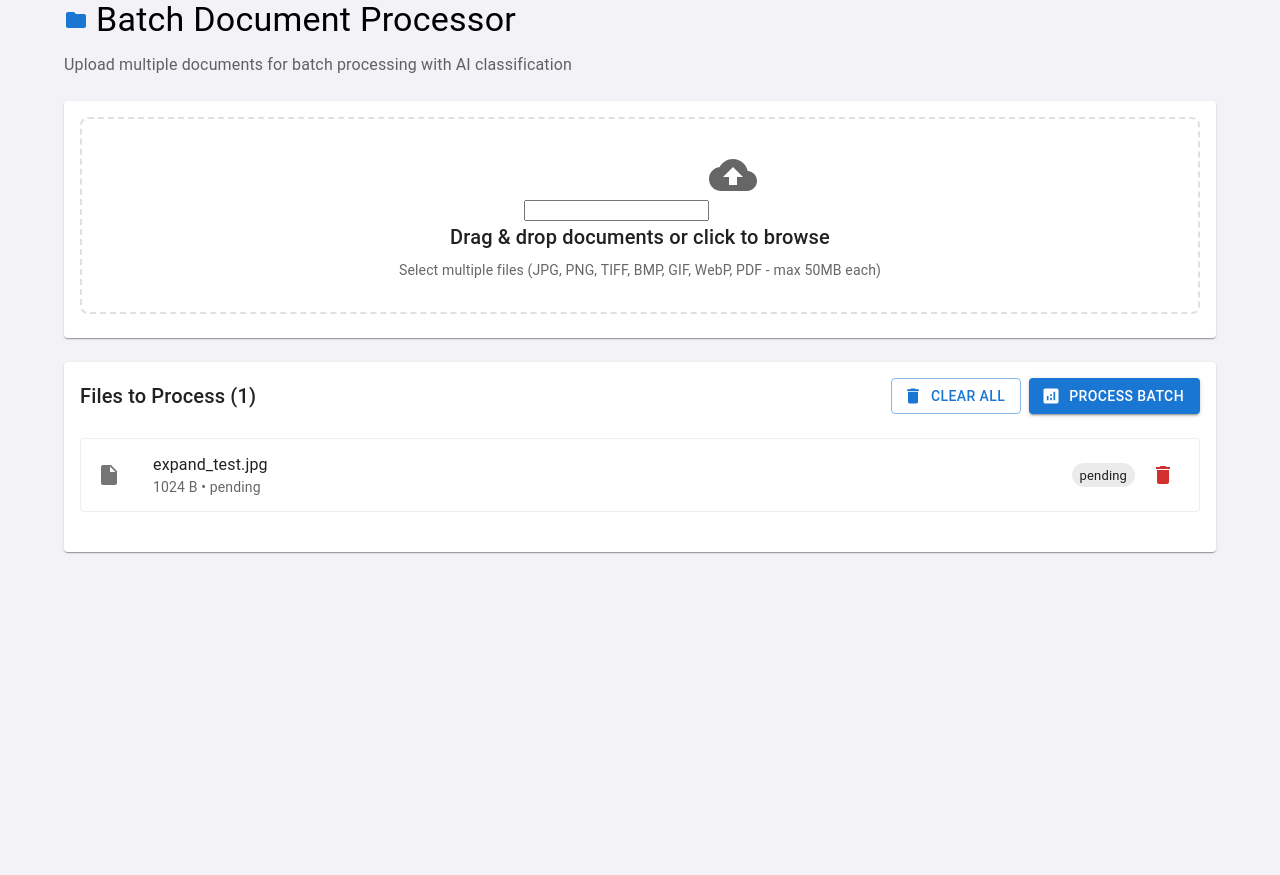
BatchProcessor › result row expansion › shows "Extracted Data" section after clicking expand
Click the button "Process Batch": (1115, 396) [1029,378,1200,414]
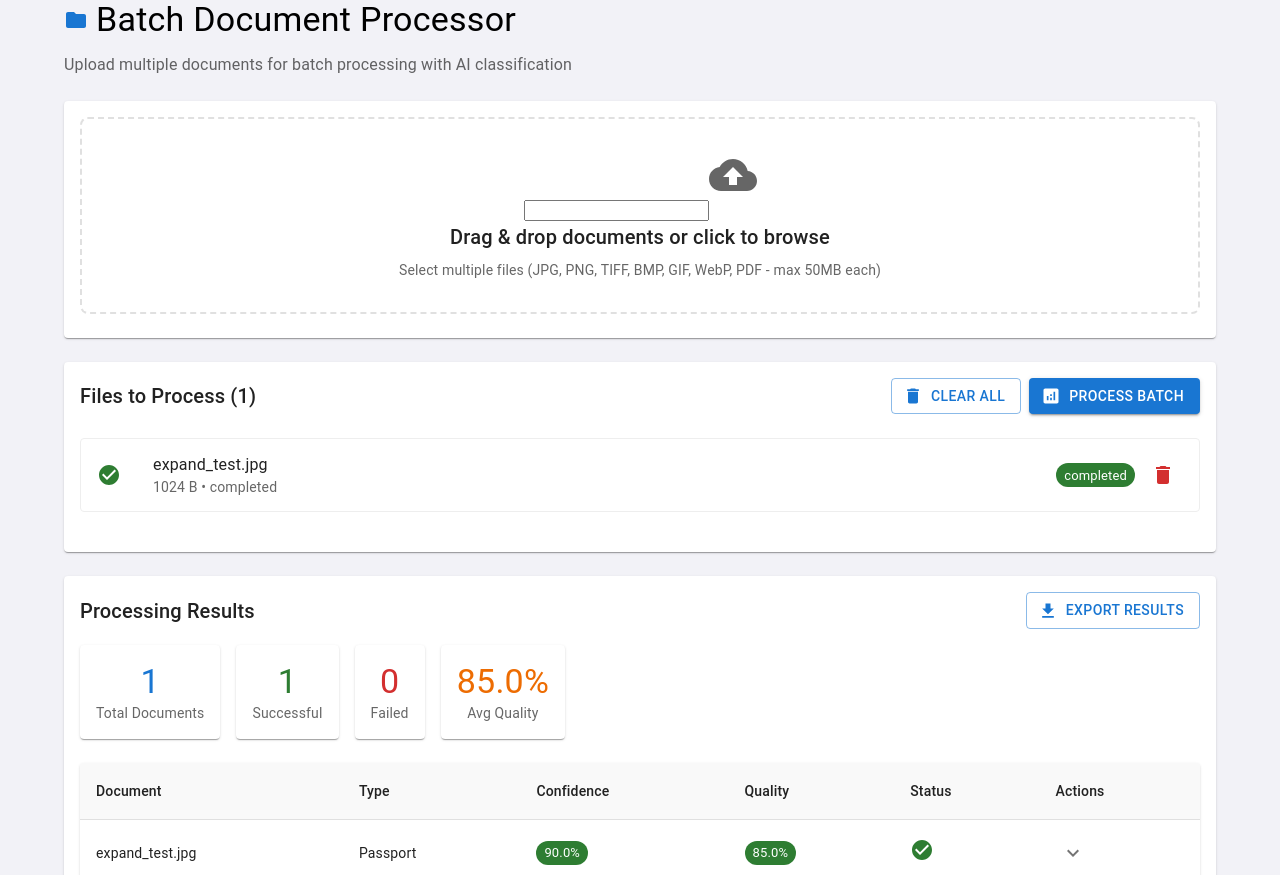
Check: the heading "Processing Results" is shown, box [80,595,255,627]
Click the button named "expand details": (1072, 853) [1056,836,1090,870]
(page scrolled)
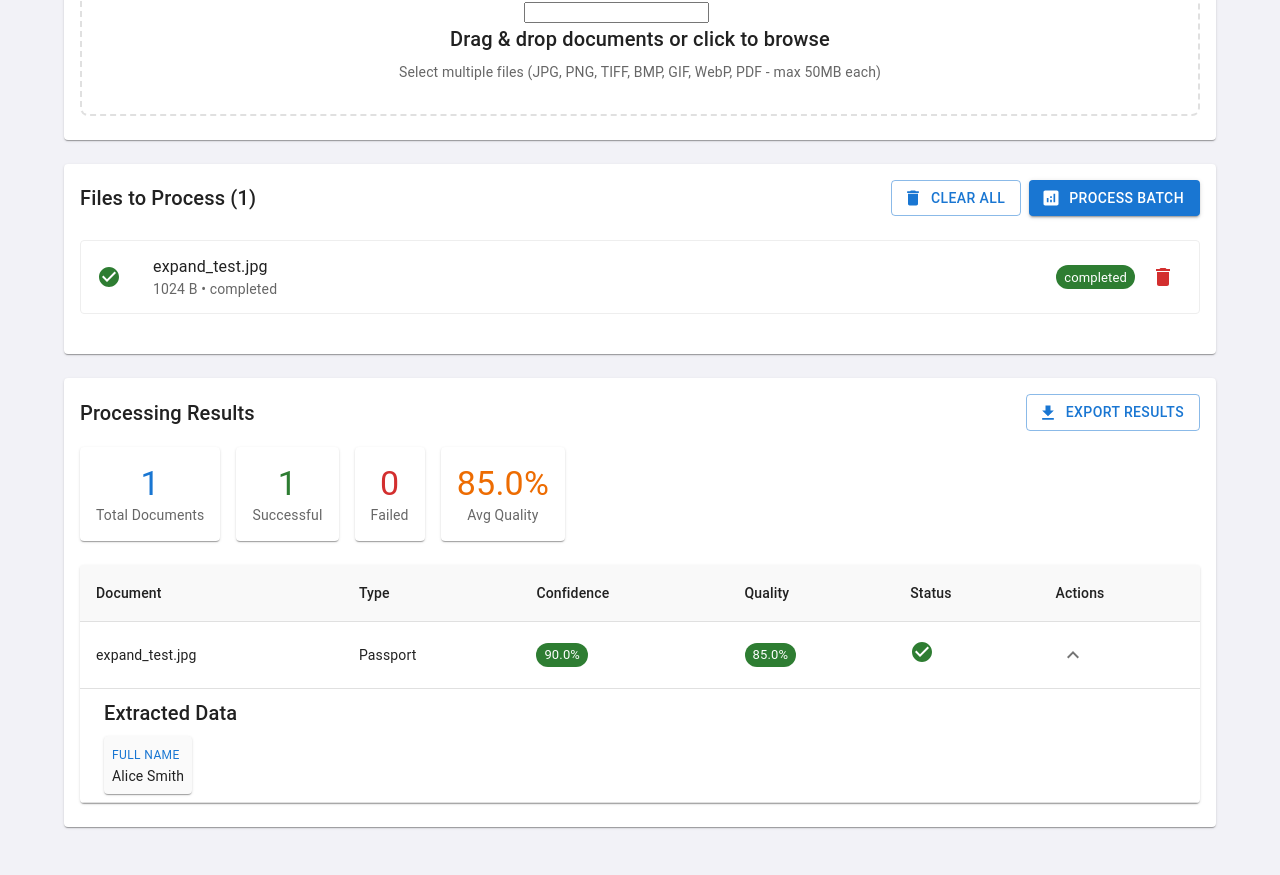
Check: the text "Extracted Data" is shown, box [104,701,237,725]
